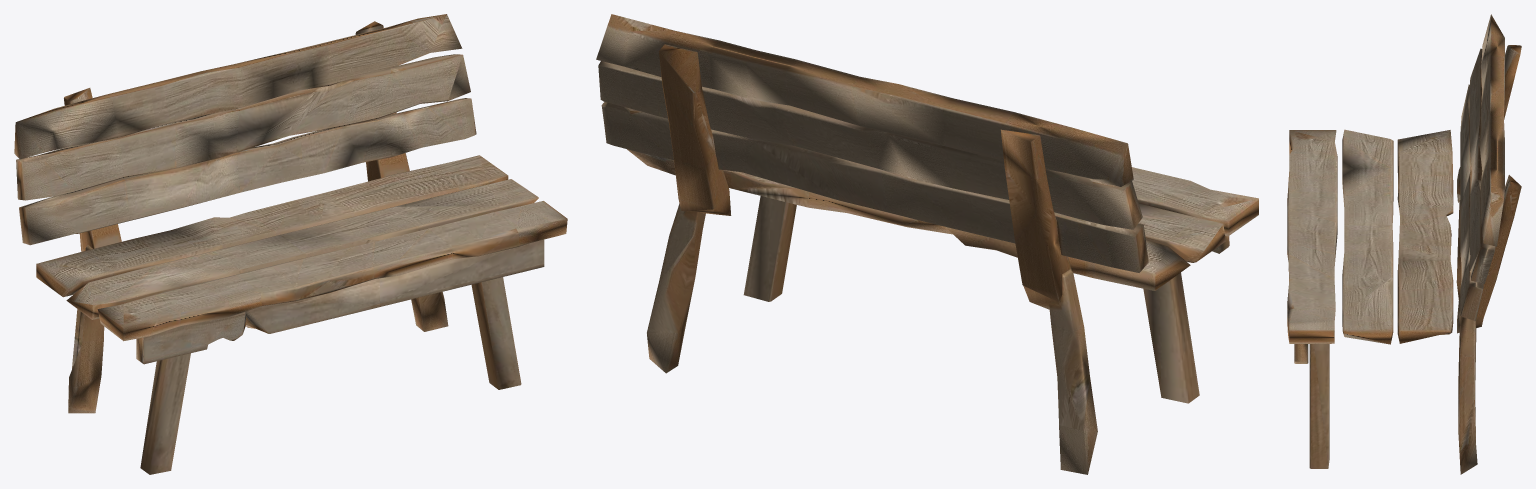
The model's file is bench.glb.
3 renders of one model, left to right at view 1: azimuth 30°, elevation 25°; view 2: azimuth 150°, elevation 25°; view 3: azimuth 270°, elevation 25°, orthographic. The views are drawn at different scales.
Bounding box in the file's own units: 0.9561 × 0.606 × 0.4668.
Materials: 1 (1 with a texture image).
